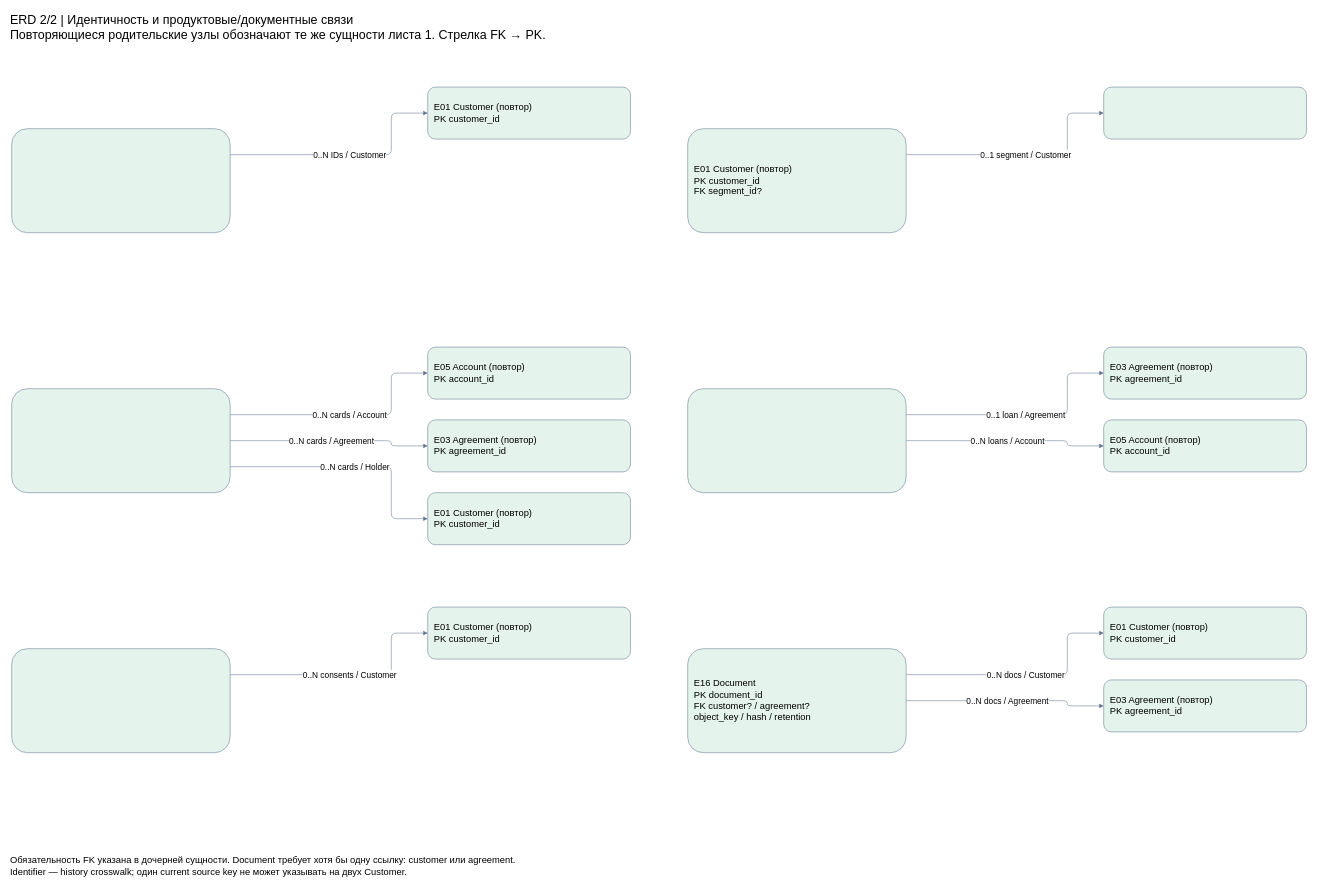
This 1333x894 diagram has some shape labels left out. Here are the shapes that lost their labels. From the top down, the centre of each, then its label:
At (x=1204, y=113): "E13 Segment (повтор) PK segment_id; definition/version".
At (x=120, y=180): "E02 Identifier PK source+local_id+from FK customer_id match / history".
At (x=120, y=440): "E06 Card PK card_id FK account / agreement / holder pan_token / status".
At (x=796, y=440): "E07 Loan PK loan_id FK agreement UNIQUE / account schedule / principal".
At (x=120, y=700): "E15 Consent PK consent_id FK customer_id purpose / scope / evidence".
